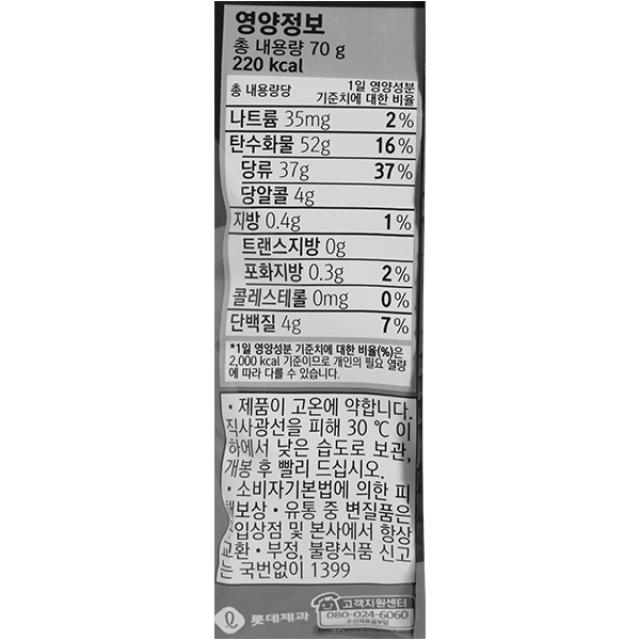Nutrition Label: (214, 3, 437, 395)
